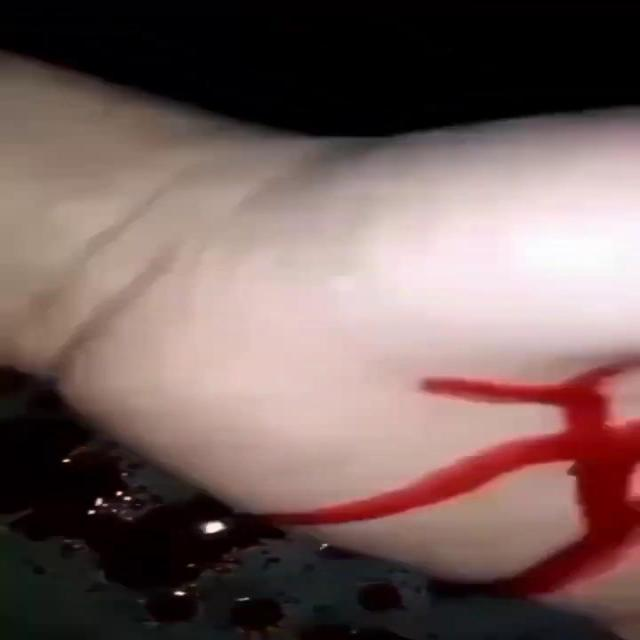flood: (417, 352, 640, 600), (36, 460, 278, 631)
